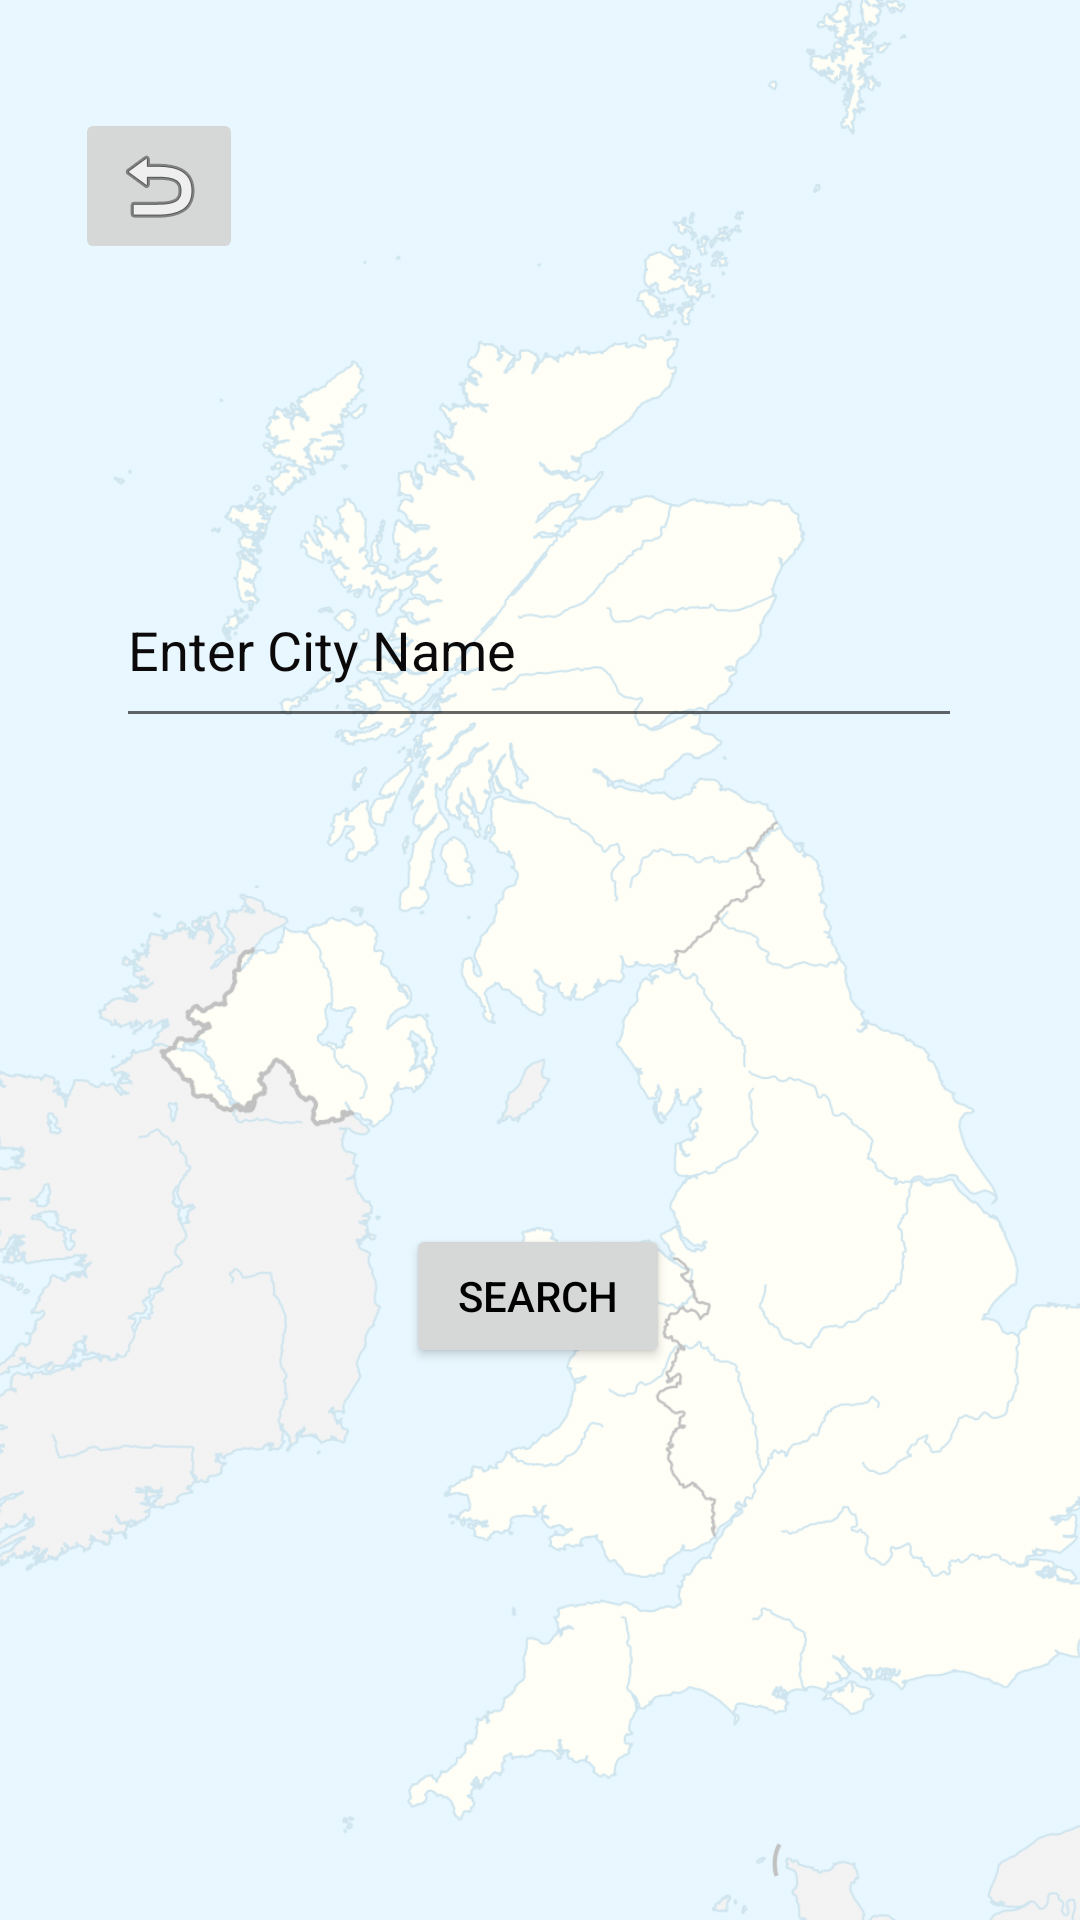

Screen size 1080*1920. Icon name, then its center in pixels as point (x, y):
revert: point (159, 186)
